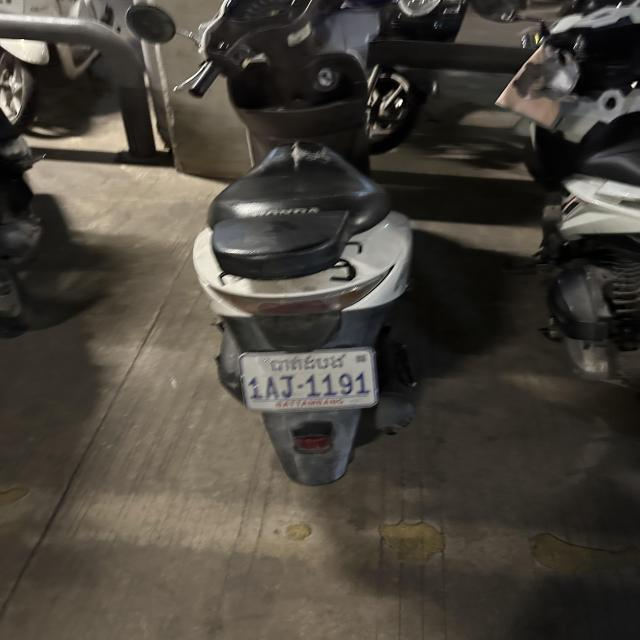Battambang: (265, 352, 348, 376)
